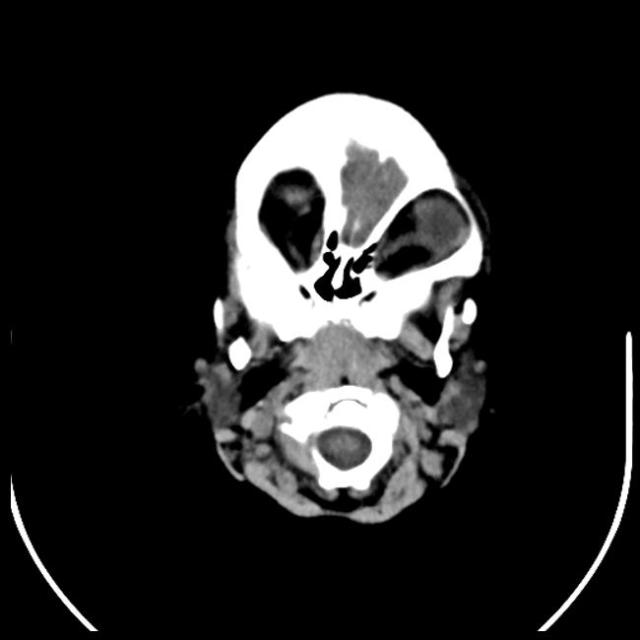lesion: (382, 327, 496, 494)
